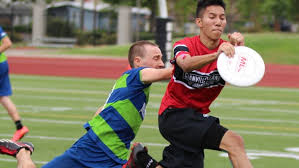disc: (218, 46, 267, 88)
